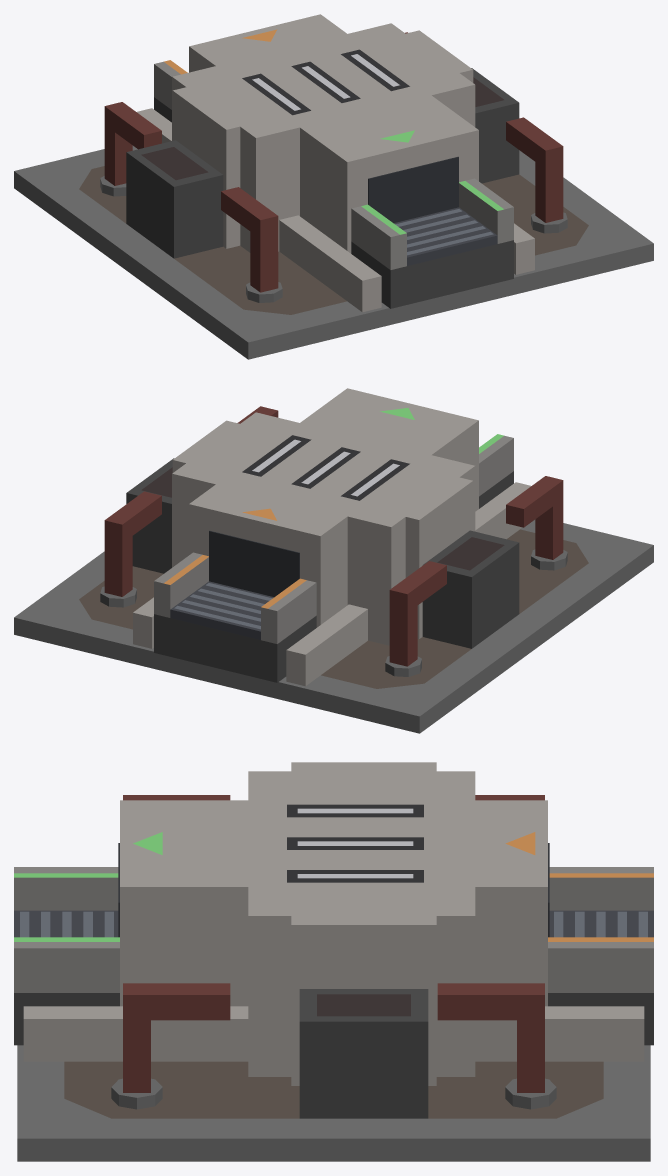
The model's file is vfef_mincer.obj.
3 views of the same model, one above another, from view 1: azimuth 30°, elevation 25°; view 2: azimuth 150°, elevation 25°; view 3: azimuth 270°, elevation 25° (orthographic). The views are drawn at different scales.
Visible parts, largest first — view 1: vfef_mincer_2, vfef_mincer_0, vfef_mincer_1, vfef_mincer_7, vfef_mincer_35, vfef_mincer_23, vfef_mincer_42, vfef_mincer_9, vfef_mincer_36, vfef_mincer_40, vfef_mincer_12, vfef_mincer_3 (+14 smaller); view 2: vfef_mincer_2, vfef_mincer_0, vfef_mincer_1, vfef_mincer_7, vfef_mincer_27, vfef_mincer_34, vfef_mincer_24, vfef_mincer_28, vfef_mincer_9, vfef_mincer_15, vfef_mincer_30, vfef_mincer_21 (+15 smaller); view 3: vfef_mincer_2, vfef_mincer_0, vfef_mincer_1, vfef_mincer_9, vfef_mincer_25, vfef_mincer_26, vfef_mincer_32, vfef_mincer_38, vfef_mincer_30, vfef_mincer_40, vfef_mincer_3, vfef_mincer_22 (+13 smaller).
Boxes of the visible parts, box(x1,y1,x2,y2) form: vfef_mincer_2: box(172, 14, 478, 253); vfef_mincer_0: box(14, 145, 653, 359); vfef_mincer_1: box(79, 166, 588, 314); vfef_mincer_7: box(126, 140, 223, 258); vfef_mincer_35: box(351, 240, 513, 308); vfef_mincer_23: box(279, 215, 381, 312); vfef_mincer_42: box(368, 156, 458, 223); vfef_mincer_9: box(471, 68, 519, 183); vfef_mincer_36: box(394, 207, 497, 265); vfef_mincer_40: box(351, 206, 406, 269); vfef_mincer_12: box(250, 208, 278, 292); vfef_mincer_3: box(242, 49, 409, 115); vfef_mincer_2: box(172, 388, 478, 645); vfef_mincer_0: box(14, 519, 653, 733); vfef_mincer_1: box(79, 529, 588, 688); vfef_mincer_7: box(422, 530, 519, 648); vfef_mincer_27: box(154, 614, 316, 682); vfef_mincer_34: box(209, 530, 299, 597); vfef_mincer_24: box(286, 604, 367, 686); vfef_mincer_28: box(170, 581, 273, 639); vfef_mincer_9: box(126, 458, 174, 573); vfef_mincer_15: box(389, 583, 417, 666); vfef_mincer_30: box(261, 580, 316, 643); vfef_mincer_21: box(104, 514, 132, 596); vfef_mincer_2: box(120, 762, 547, 1085); vfef_mincer_0: box(17, 1045, 650, 1161); vfef_mincer_1: box(64, 1061, 603, 1118); vfef_mincer_9: box(299, 989, 428, 1118); vfef_mincer_25: box(23, 1006, 248, 1061); vfef_mincer_26: box(475, 1006, 644, 1061); vfef_mincer_32: box(548, 942, 653, 992); vfef_mincer_38: box(14, 942, 119, 992); vfef_mincer_30: box(549, 867, 653, 910); vfef_mincer_40: box(14, 867, 118, 910); vfef_mincer_3: box(287, 804, 423, 882); vfef_mincer_22: box(437, 983, 544, 1020).
Bounding box in the file's own units: 2.96 × 0.95 × 2.99.
